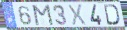3: (53, 4, 68, 26)
4: (90, 4, 103, 27)
6: (17, 5, 33, 26)
D: (103, 4, 121, 26)
M: (32, 4, 55, 27)
X: (68, 4, 88, 27)
